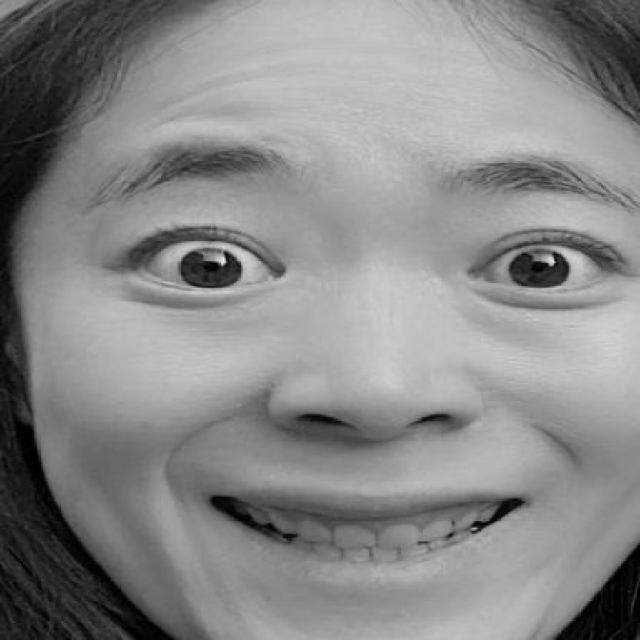happy: (77, 144, 640, 596)
